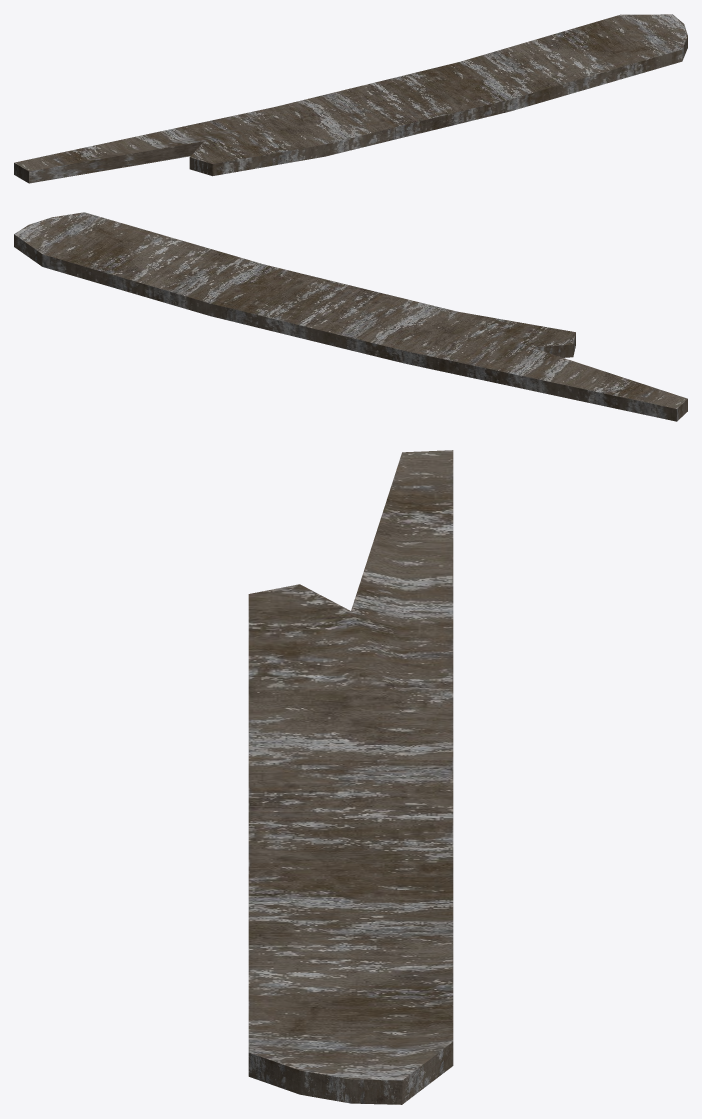
The model's file is Madera_1.fbx.
The picture shows the model from 3 angles, top to bottom: view 1: azimuth 30°, elevation 25°; view 2: azimuth 150°, elevation 25°; view 3: azimuth 270°, elevation 25°; orthographic projection. The views are drawn at different scales.
Parts seen in each view (by area): view 1: pCube2; view 2: pCube2; view 3: pCube2.
Boxes of the visible parts, left/top/right/bottom form: pCube2: left=14, top=14, right=687, bottom=183; pCube2: left=14, top=212, right=687, bottom=421; pCube2: left=248, top=450, right=453, bottom=1104.
Bounding box in the file's own units: 2.4 × 0.071 × 0.3289.
